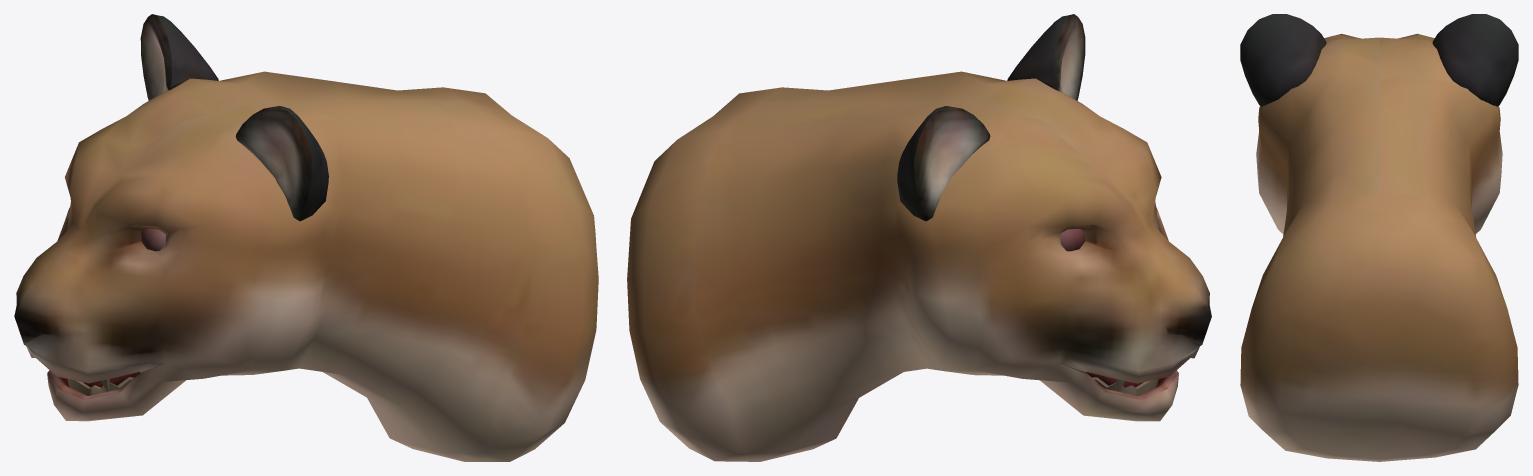
The model's file is Cougar_Head_0.FBX.
The picture shows the model from 3 angles, left to right: view 1: azimuth 30°, elevation 25°; view 2: azimuth 150°, elevation 25°; view 3: azimuth 270°, elevation 25°; orthographic projection. The views are drawn at different scales.
Visible parts, largest first — view 1: Cougar_Head_0; view 2: Cougar_Head_0; view 3: Cougar_Head_0.
Boxes of the visible parts, <box> form: Cougar_Head_0: <box>14,14,598,461</box>; Cougar_Head_0: <box>627,14,1211,461</box>; Cougar_Head_0: <box>1240,14,1518,461</box>.
Size of the model in its own units: 1.91 by 1.46 by 1.04.
